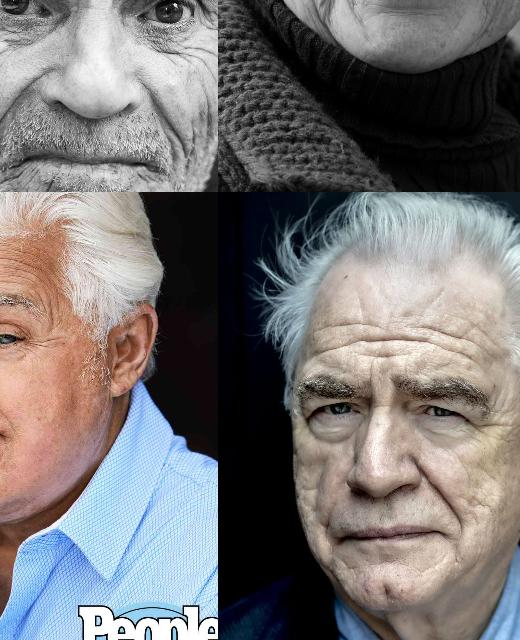chin: (28, 179, 72, 192), (0, 171, 27, 192)
crows_feet: (464, 409, 500, 438), (31, 330, 62, 358), (199, 3, 218, 47)
forehead: (26, 256, 67, 312), (430, 320, 482, 364), (370, 330, 428, 358), (316, 338, 364, 360), (324, 312, 376, 332), (0, 253, 14, 287)
gummy_smile: (419, 455, 467, 519), (0, 64, 38, 131), (142, 78, 180, 136), (0, 384, 16, 429)
masseter: (199, 83, 218, 137)
sad_smile: (323, 0, 351, 19)
